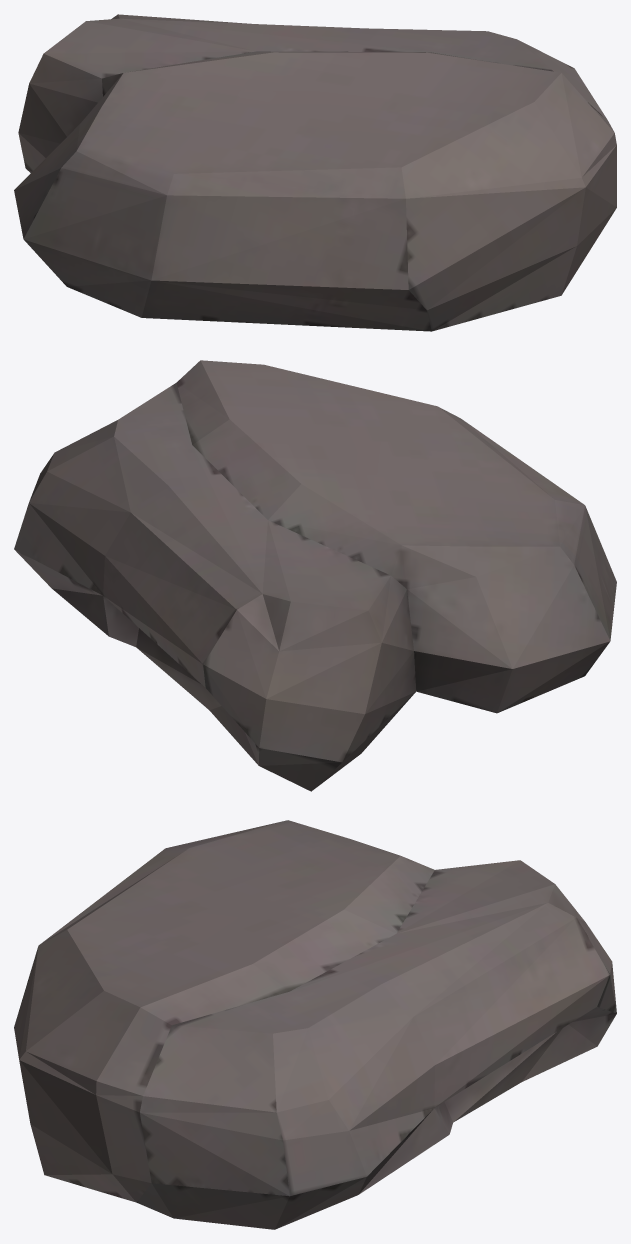
The picture shows the model from 3 angles, top to bottom: view 1: azimuth 30°, elevation 25°; view 2: azimuth 150°, elevation 25°; view 3: azimuth 270°, elevation 25°; orthographic projection. The views are drawn at different scales.
Visible parts, largest first — view 1: body0_model0_lod0_mesh0; view 2: body0_model0_lod0_mesh0; view 3: body0_model0_lod0_mesh0.
Boxes of the visible parts, x1,y1,x2,y2 form: body0_model0_lod0_mesh0: [14, 14, 616, 331]; body0_model0_lod0_mesh0: [14, 360, 616, 791]; body0_model0_lod0_mesh0: [14, 820, 616, 1229].
Bounding box in the file's own units: 74.13 × 25.1 × 64.04.
1 material, 1 textured.
